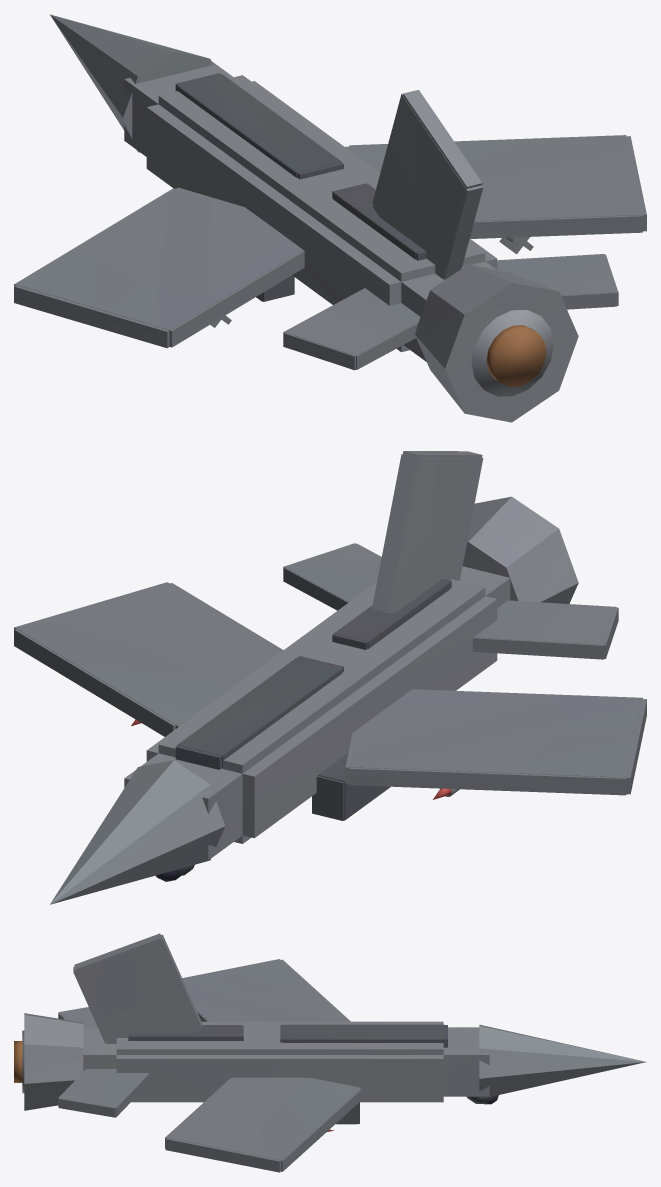
The model's file is FighterJet.fbx.
3 renders of one model, top to bottom at view 1: azimuth 30°, elevation 25°; view 2: azimuth 150°, elevation 25°; view 3: azimuth 270°, elevation 25°, orthographic. The views are drawn at different scales.
Visible parts, largest first — view 1: FighterJet; view 2: FighterJet; view 3: FighterJet.
Part boxes in pixels (x1,y1,x2,y2): FighterJet: (14, 14, 646, 422); FighterJet: (14, 451, 646, 904); FighterJet: (14, 933, 645, 1172).
Bounding box in the file's own units: 2.29 × 0.9118 × 3.02.
